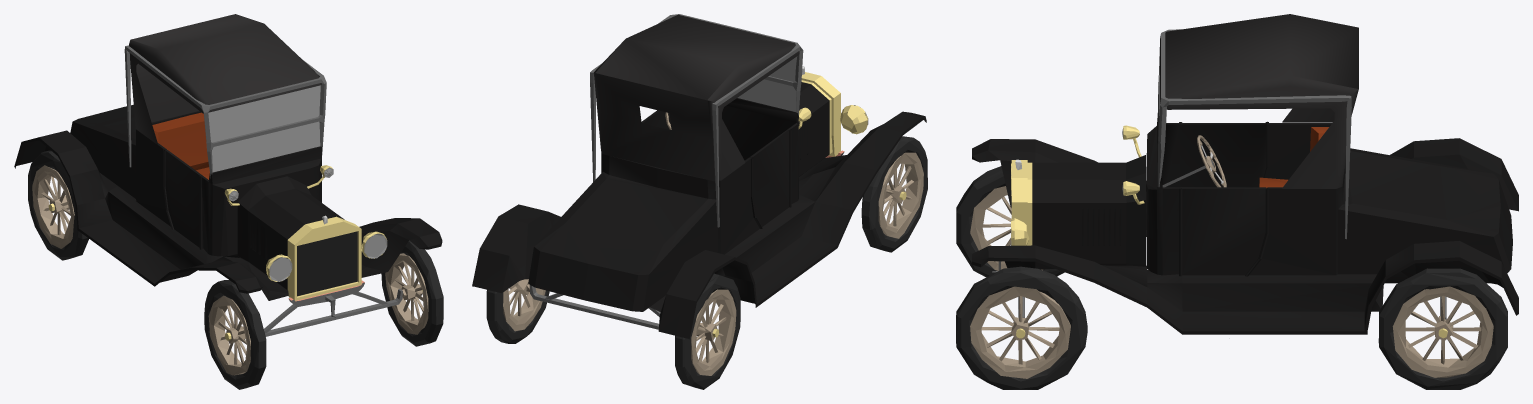
3 renders of one model, left to right at view 1: azimuth 30°, elevation 25°; view 2: azimuth 150°, elevation 25°; view 3: azimuth 270°, elevation 25°, orthographic. The views are drawn at different scales.
Visible parts, largest first — view 1: Ford_T, Capote.001, Glass, PneuA, CerchiA, Radiator, Frame, Door.R, CerchiP, Sedile, GridCover, PneuP (+3 smaller); view 2: Ford_T, Capote.001, CerchiP, PneuP, Door.R, CerchiA, PneuA, Frame, Glass, GridCover, SuspensionR, headlight.R; view 3: Ford_T, Capote.001, PneuA, Door.L, CerchiA, PneuP, CerchiP, Door.R, Frame, GridCover, headlight.R.001, SterzoLegno (+1 smaller).
Part boxes in pixels (x1,y1,x2,y2): Ford_T: [14, 105, 442, 300]; Capote.001: [129, 14, 321, 144]; Glass: [208, 85, 320, 172]; PneuA: [204, 240, 443, 389]; CerchiA: [208, 253, 428, 375]; Radiator: [297, 231, 357, 296]; Frame: [124, 45, 326, 178]; Door.R: [163, 149, 203, 249]; CerchiP: [32, 165, 74, 248]; Sedile: [152, 112, 209, 179]; GridCover: [287, 216, 361, 300]; PneuP: [28, 150, 88, 260]; Ford_T: [472, 82, 926, 339]; Capote.001: [593, 14, 799, 181]; CerchiP: [503, 279, 736, 375]; PneuP: [486, 273, 740, 389]; Door.R: [749, 129, 791, 228]; CerchiA: [878, 152, 923, 238]; PneuA: [861, 136, 927, 252]; Frame: [590, 14, 803, 227]; Glass: [737, 56, 797, 111]; GridCover: [801, 72, 840, 156]; SuspensionR: [529, 285, 660, 329]; headlight.R: [840, 105, 867, 134]; Ford_T: [972, 112, 1518, 334]; Capote.001: [1160, 14, 1358, 188]; PneuA: [956, 166, 1087, 389]; Door.L: [1179, 187, 1268, 276]; CerchiA: [970, 186, 1070, 378]; PneuP: [1378, 268, 1507, 389]; CerchiP: [1392, 286, 1493, 377]; Door.R: [1179, 121, 1268, 187]; Frame: [1157, 29, 1351, 239]; GridCover: [1011, 160, 1032, 245]; headlight.R.001: [1123, 125, 1144, 204]; SterzoLegno: [1197, 135, 1226, 187].
Size of the model in its own units: 171 by 197 by 342.
